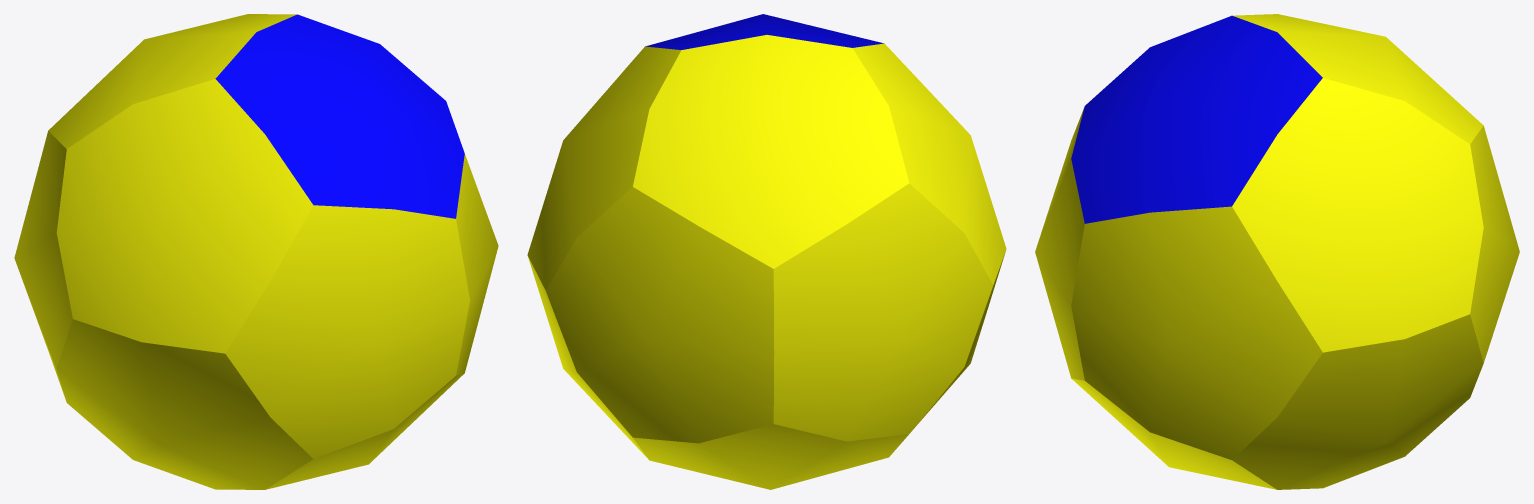
Rendered from platonic_m.obj.
3 renders of one model, left to right at view 1: azimuth 30°, elevation 25°; view 2: azimuth 150°, elevation 25°; view 3: azimuth 270°, elevation 25°, orthographic.
Bounding box in the file's own units: 1.96 × 2 × 2.
